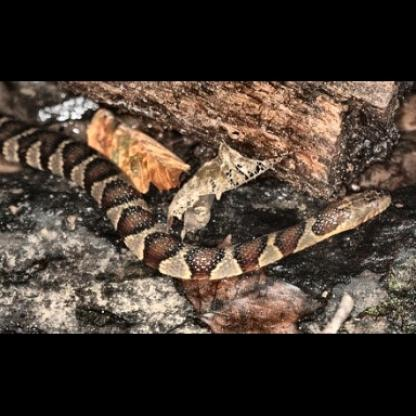Snake: (1, 104, 409, 304)
